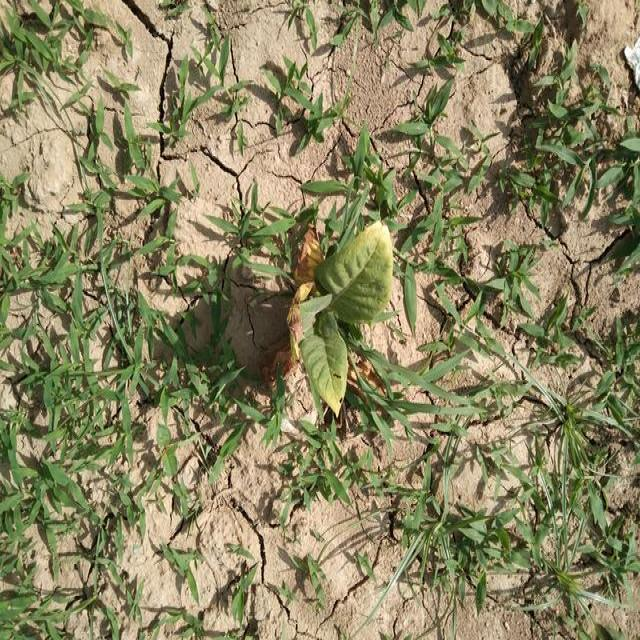crop: (289, 209, 402, 439)
